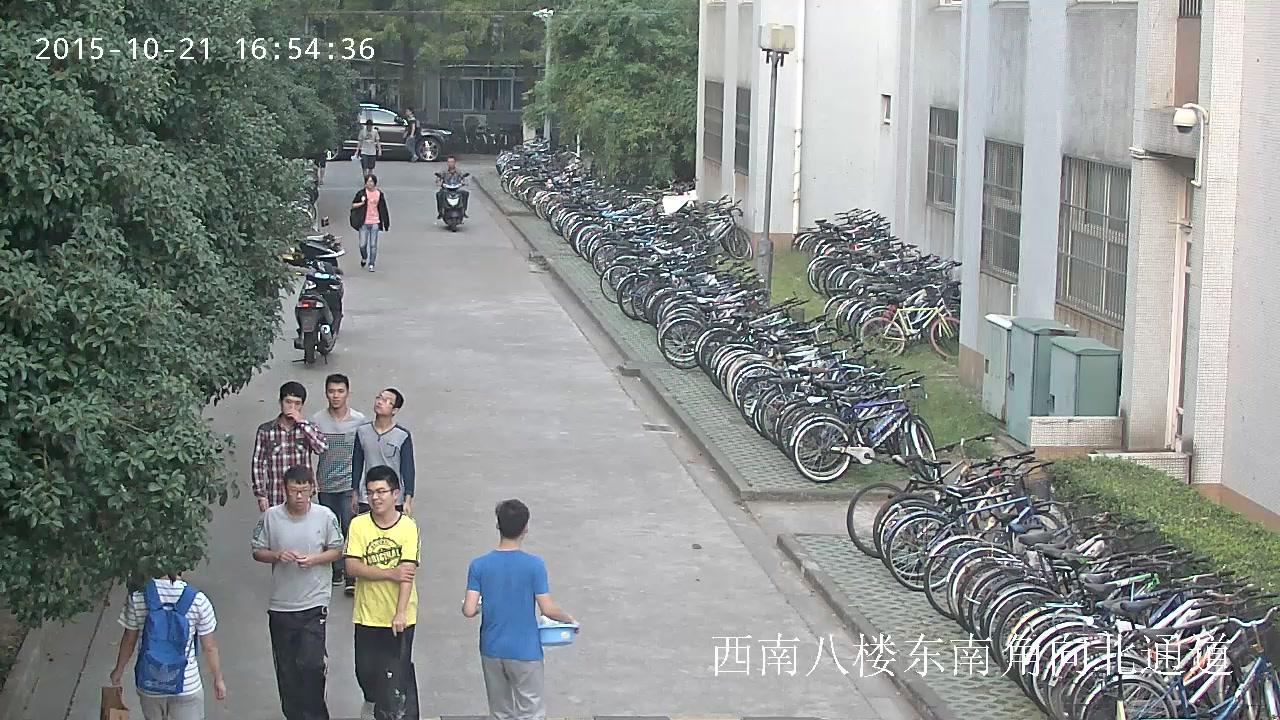face: (367, 480, 394, 512), (286, 479, 311, 509), (326, 382, 347, 407), (374, 391, 395, 414), (282, 392, 302, 415), (366, 176, 374, 188), (447, 157, 454, 167), (405, 108, 409, 115), (367, 124, 371, 130)
